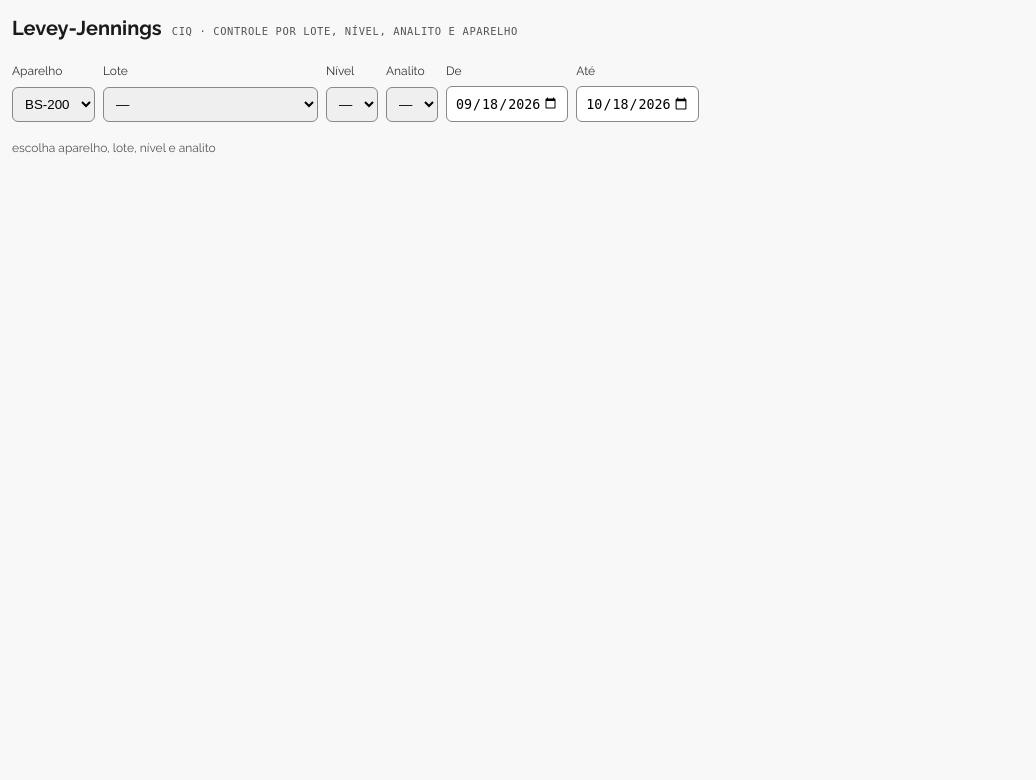
Test: LabQcChart › lote, nível, analito e aparelho; últimos 30 dias; mostra o gráfico
The image size is (1036, 780).
Select "L2026A · Controle bioquímico" in the dropdown labelled "Lote": x=210, y=104 [103,87,318,122]
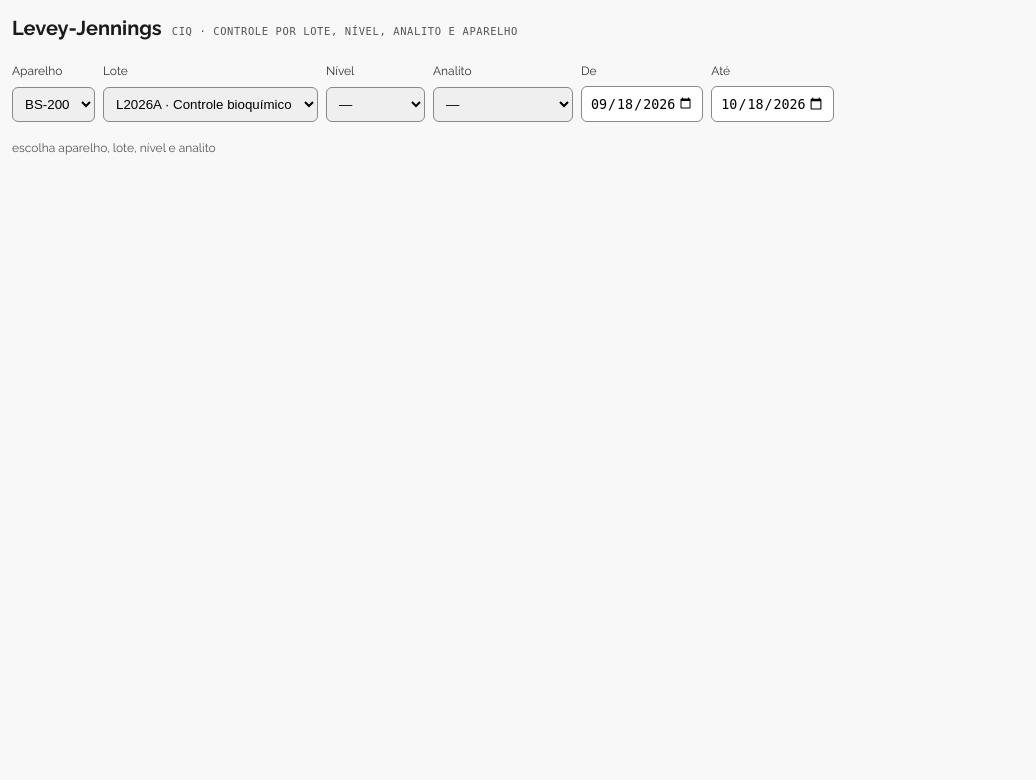
Select "normal" in the dropdown labelled "Nível": x=376, y=104 [326,87,425,122]
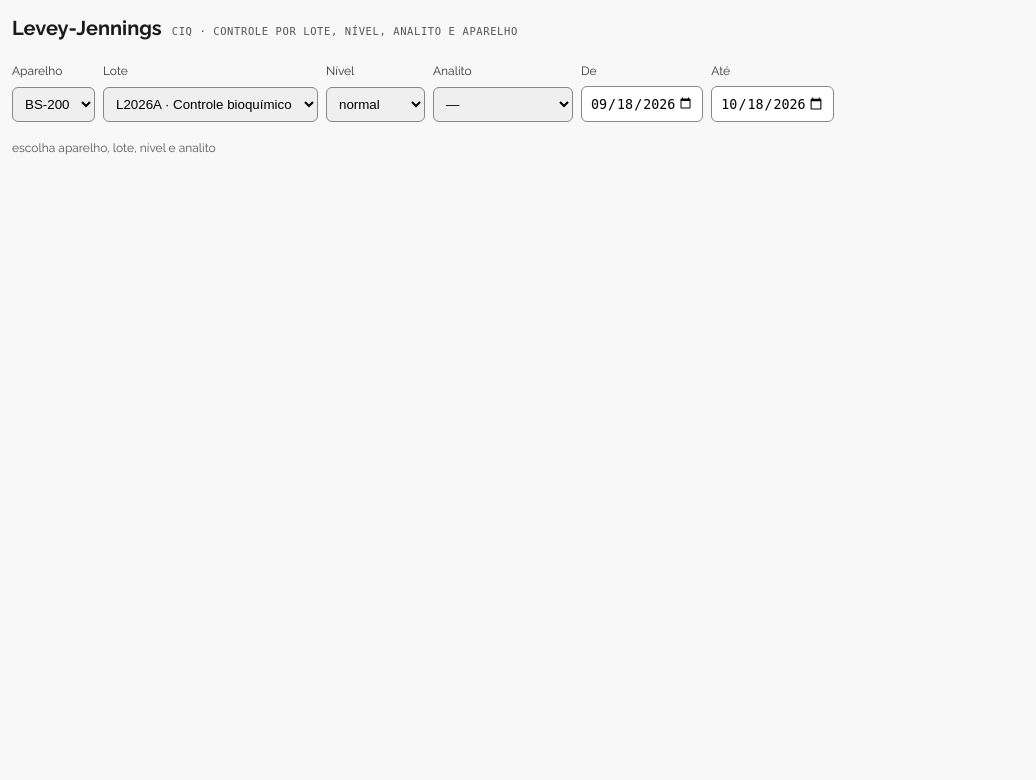
Select "Glicose (Glicose)" in the dropdown labelled "Analito": x=503, y=104 [433,87,573,122]
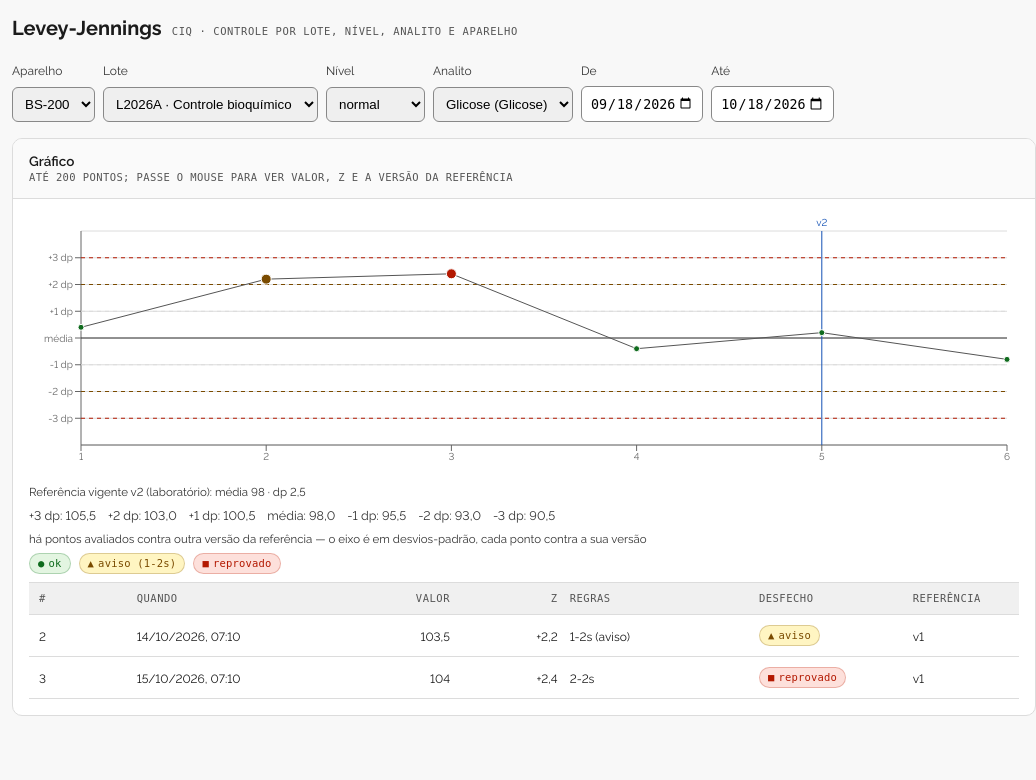
Expected: the element named "Levey-Jennings · Glicose (Glicose) · normal · lote L2026A · BS-200" is shown, [29,215,1019,699]
